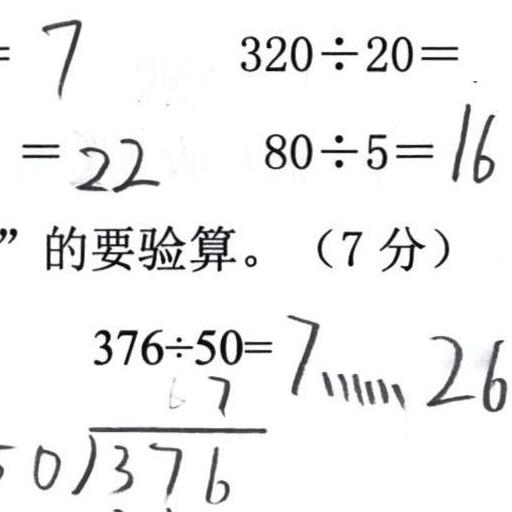ans: (281, 311, 510, 416), (69, 130, 159, 194), (445, 98, 497, 184), (36, 11, 84, 95)
